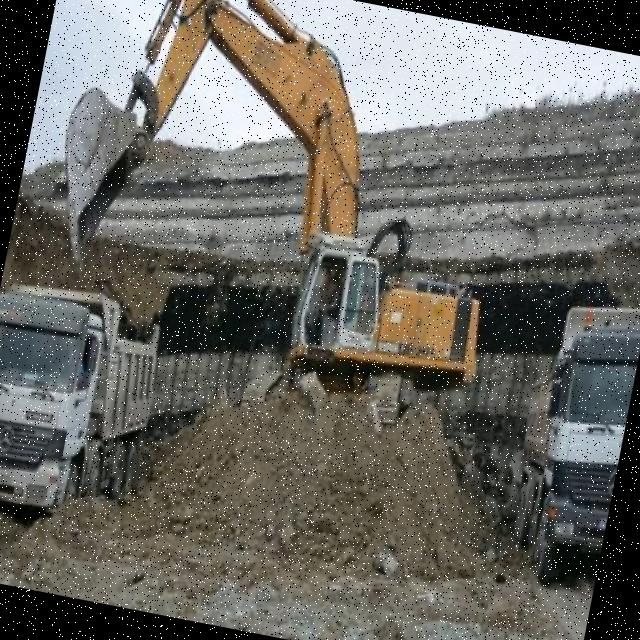Dump Truck: (491, 293, 640, 590), (0, 277, 172, 526)
Excavator: (20, 0, 548, 456)
